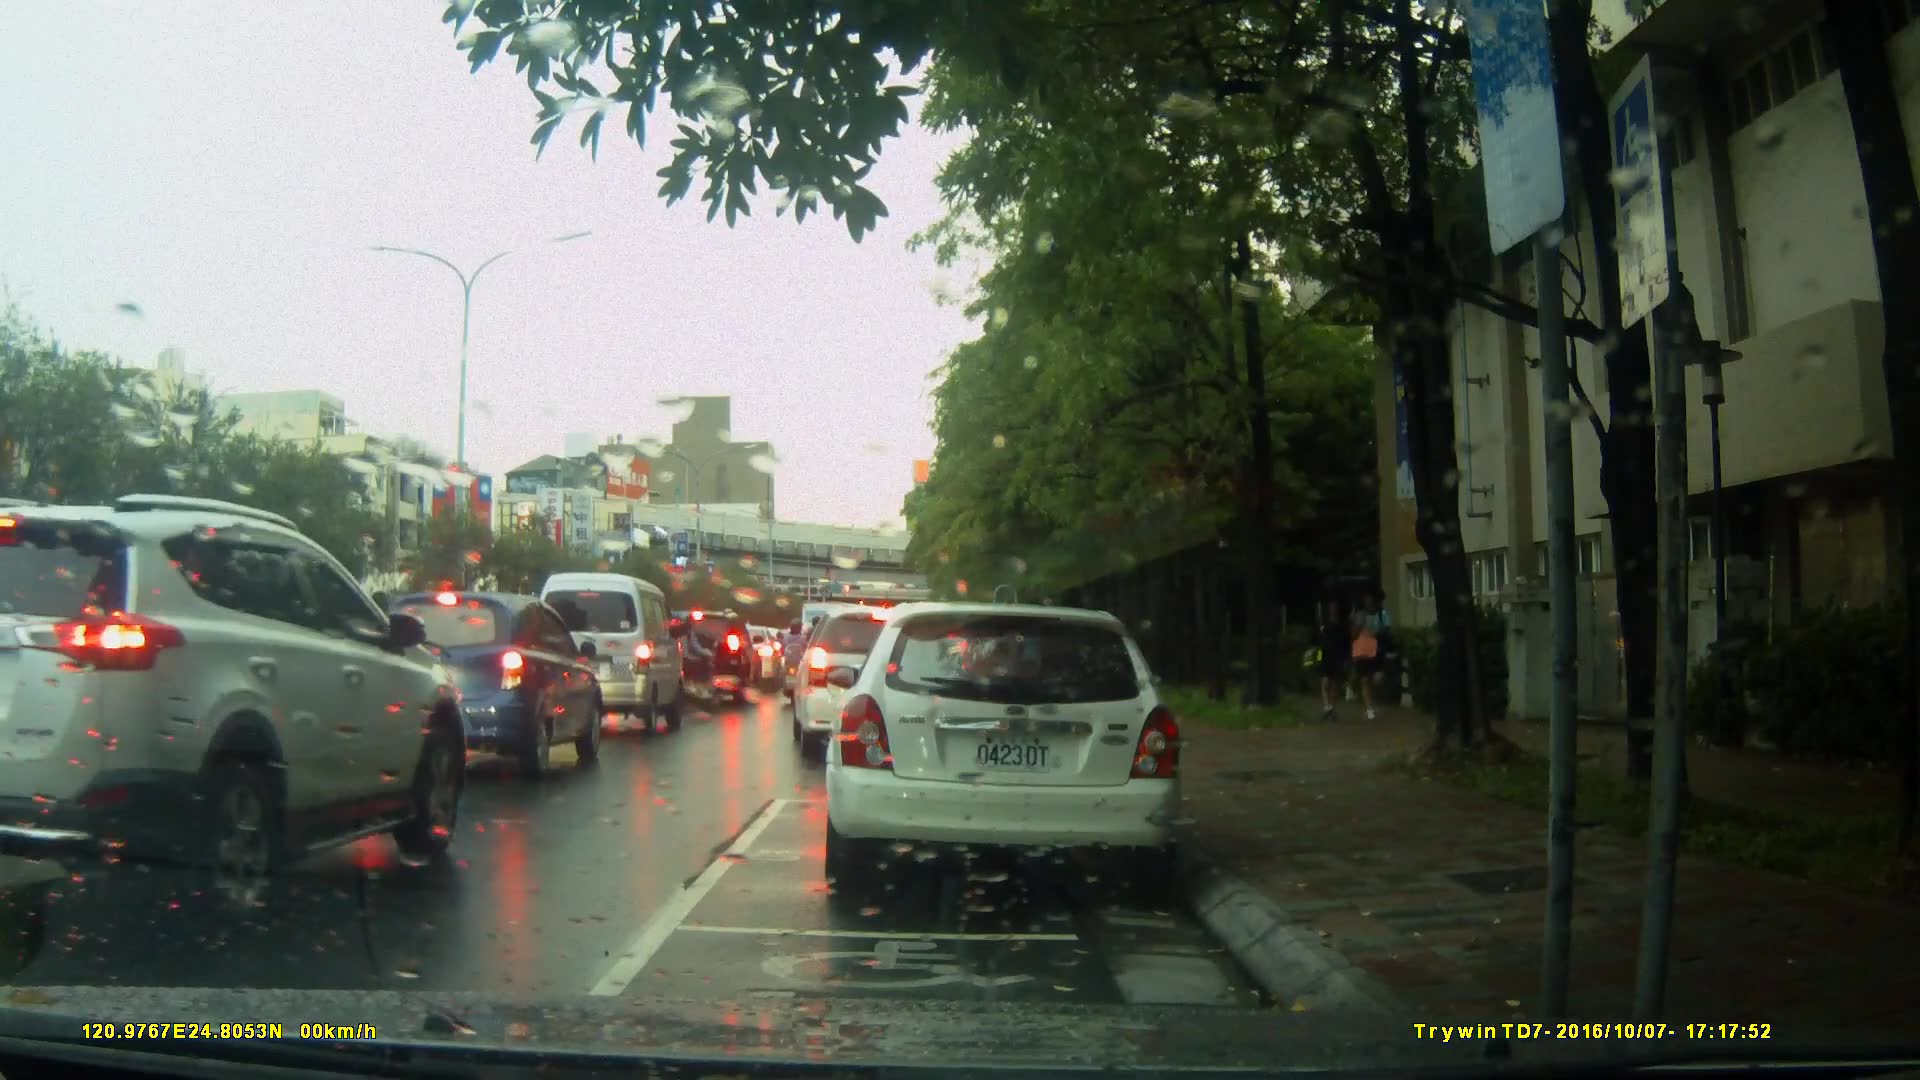pedestrian: (1289, 592, 1350, 719), (1347, 576, 1399, 722)
rider: (664, 610, 720, 718), (775, 618, 812, 710)
vehicle: (1, 489, 477, 930), (815, 593, 1204, 909), (356, 587, 605, 786), (795, 603, 966, 763), (533, 570, 689, 741), (647, 607, 763, 709)
